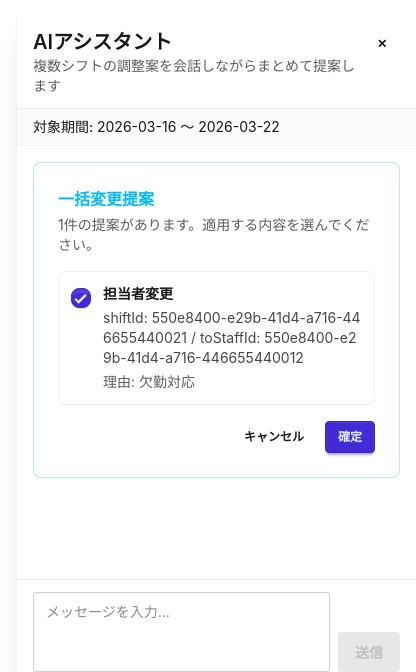
Test: FlexibleAdjustmentChatDialog › キャンセル後に再提案ガイダンスを表示する
Click the button "キャンセル": (274, 437) [231, 421, 317, 453]
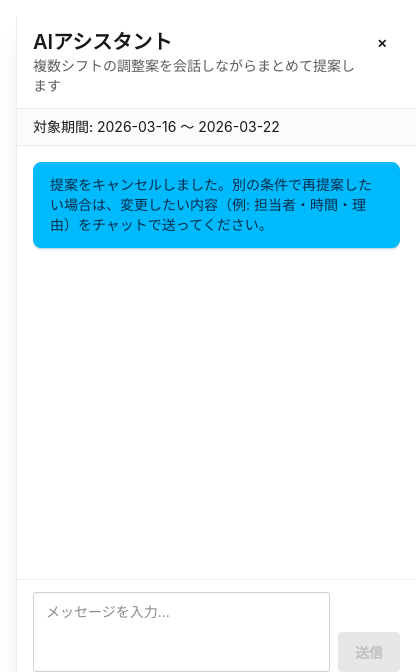
Expected: the text "提案をキャンセルしました。別の条件で再提案したい場合は、変更したい内容（例: 担当者・時間・理由）をチャットで送ってください。" is shown, [33, 162, 400, 248]
